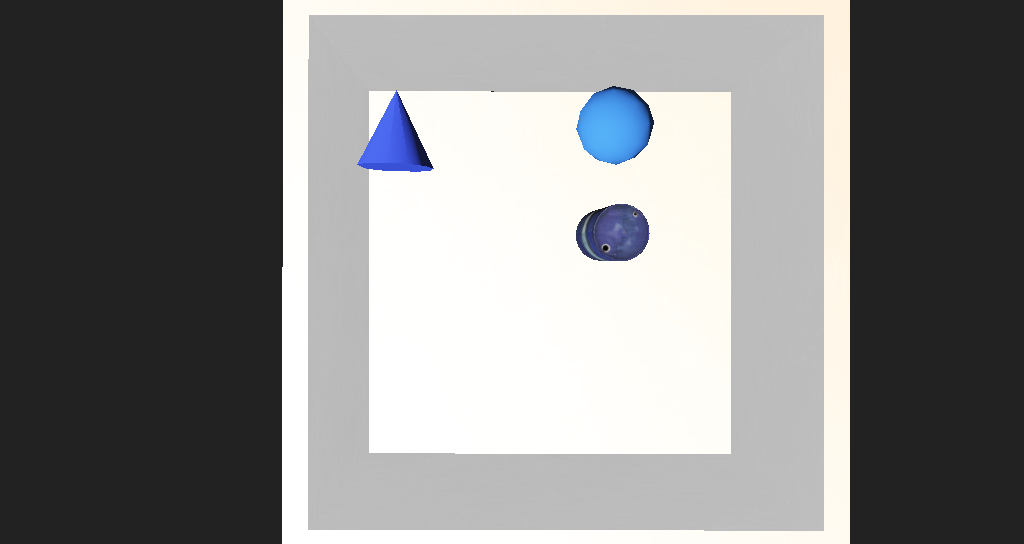cone: (529, 224, 589, 262)
cylinder: (340, 153, 414, 210)
sphere: (529, 157, 589, 205)
